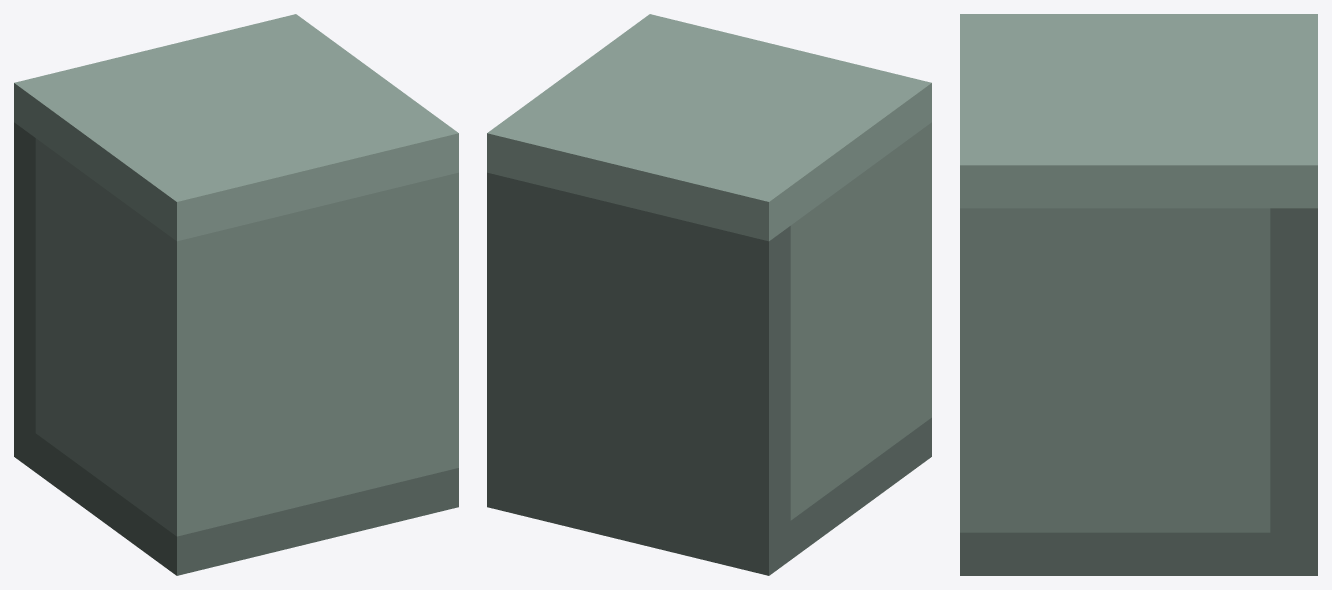
File: estante_tarros_herbolario_01.glb
3 renders of one model, left to right at view 1: azimuth 30°, elevation 25°; view 2: azimuth 150°, elevation 25°; view 3: azimuth 270°, elevation 25°, orthographic. The views are drawn at different scales.
Parts seen in each view (by area): view 1: estante_tarros_herbolario; view 2: estante_tarros_herbolario; view 3: estante_tarros_herbolario.
Boxes of the visible parts, x1=… form: estante_tarros_herbolario: x1=14, y1=14, x2=458, y2=575; estante_tarros_herbolario: x1=487, y1=14, x2=931, y2=575; estante_tarros_herbolario: x1=960, y1=14, x2=1317, y2=575.
Bounding box in the file's own units: 1 × 1.27 × 1.
